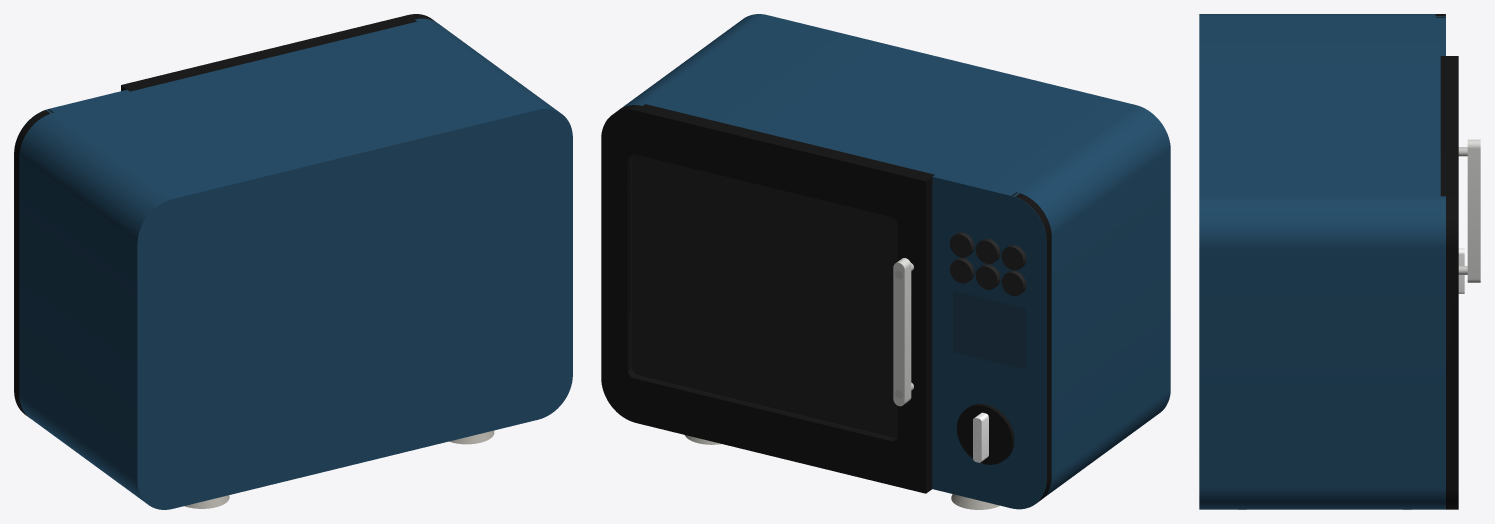
3 renders of one model, left to right at view 1: azimuth 30°, elevation 25°; view 2: azimuth 150°, elevation 25°; view 3: azimuth 270°, elevation 25°, orthographic.
Parts seen in each view (by area): view 1: housing, door, control_panel; view 2: housing, door, window, display, handle_bar, dial_base, control_panel, dial_grip; view 3: housing, door, handle_bar.
Part boxes in pixels (box(x1,y1,x2,y2)): housing: box(14, 18, 572, 509); door: box(121, 14, 435, 91); control_panel: box(14, 109, 53, 416); housing: box(620, 14, 1170, 509); door: box(601, 104, 934, 493); window: box(631, 154, 897, 437); display: box(953, 291, 1025, 369); handle_bar: box(893, 258, 911, 406); dial_base: box(957, 403, 1014, 464); control_panel: box(1012, 192, 1051, 503); dial_grip: box(973, 412, 988, 462); housing: box(1199, 14, 1445, 509); door: box(1440, 56, 1458, 509); handle_bar: box(1467, 139, 1480, 282).
Bounding box in the file's own units: 0.5001 × 0.3582 × 0.28.
